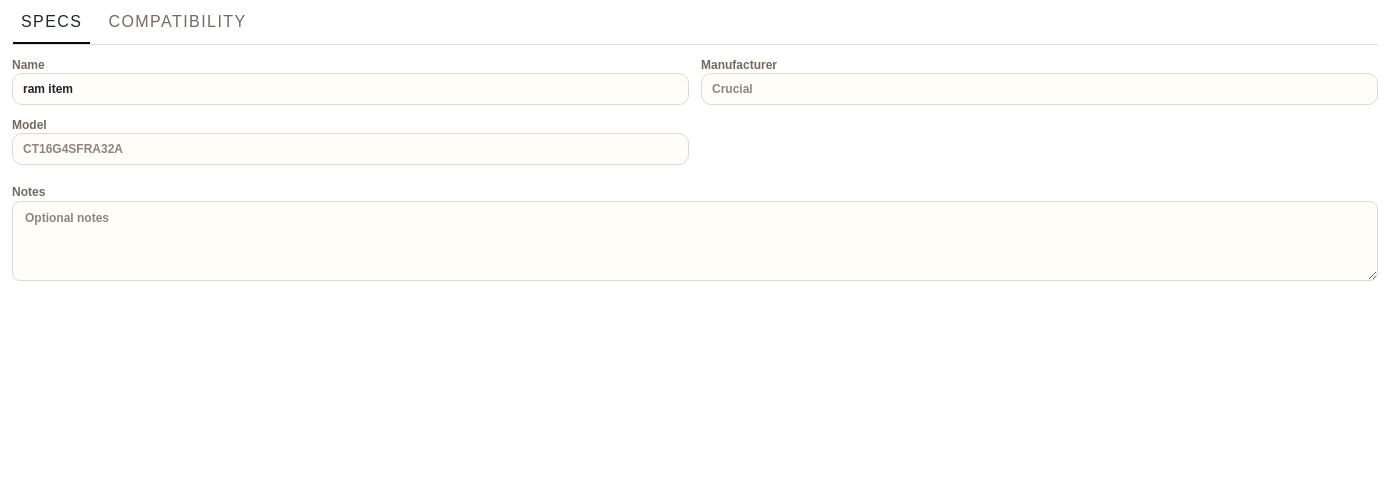
Scenario: ComponentInspectorTabs › moves editable ram compatibility fields out of Specs
Expected: the field labelled "Form Factor" is not shown
Click the tab "Compatibility" at (178, 22), box 100,4 -> 256,40
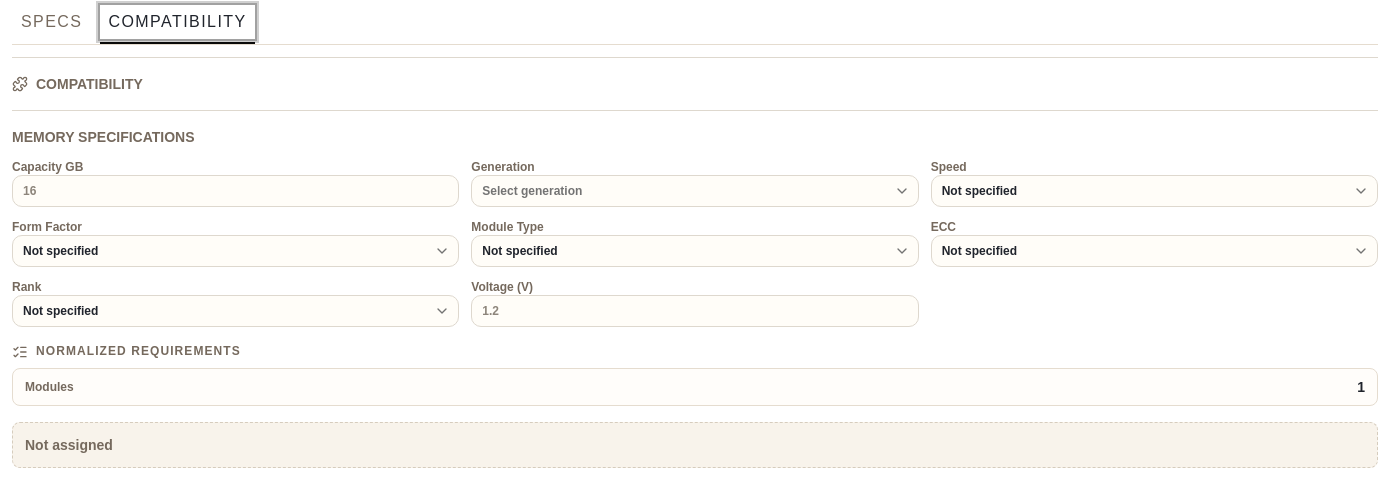
Now the dropdown named "Form Factor" is shown, box 12,235 -> 459,267
